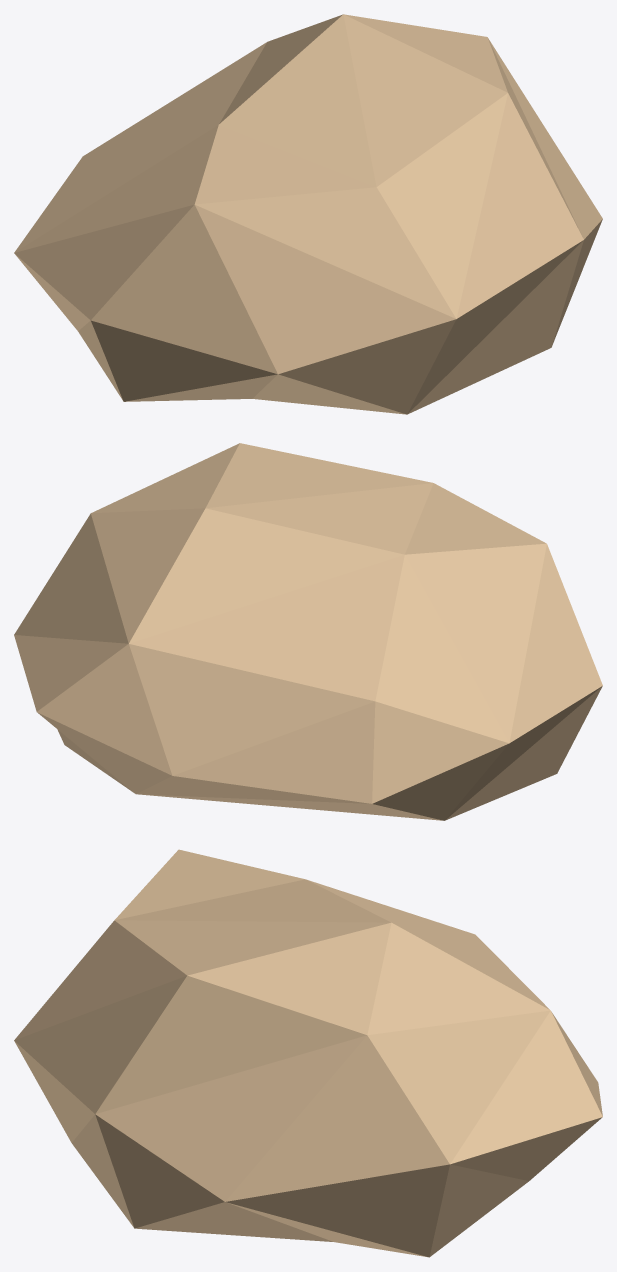
Rendered from stone_round__10_.obj.
3 renders of one model, top to bottom at view 1: azimuth 30°, elevation 25°; view 2: azimuth 150°, elevation 25°; view 3: azimuth 270°, elevation 25°, orthographic. The views are drawn at different scales.
Visible parts, largest first — view 1: stone_round__10__Scene.012; view 2: stone_round__10__Scene.012; view 3: stone_round__10__Scene.012.
Boxes of the visible parts, x1,y1,x2,y2 form: stone_round__10__Scene.012: (14,14,602,414); stone_round__10__Scene.012: (14,443,602,820); stone_round__10__Scene.012: (14,849,602,1257).
Size of the model in its own units: 2.28 by 1.3 by 2.23.
